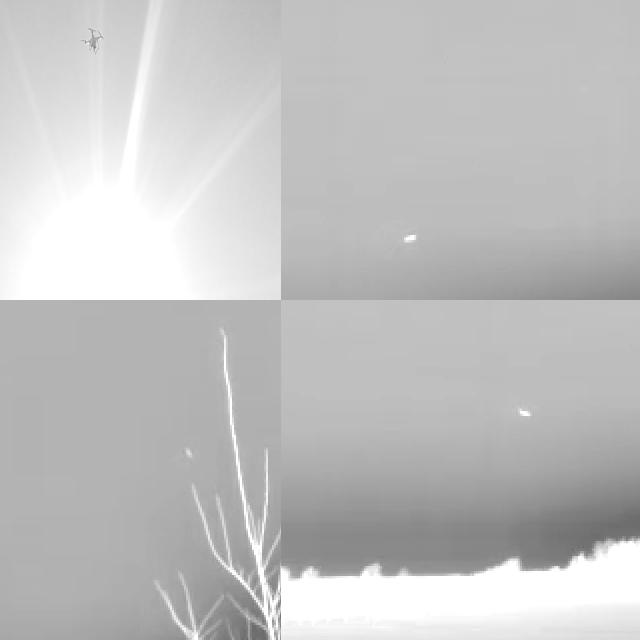0: (176, 442, 200, 470)
1: (392, 226, 428, 259), (508, 402, 542, 432)
drone: (83, 24, 106, 59)
